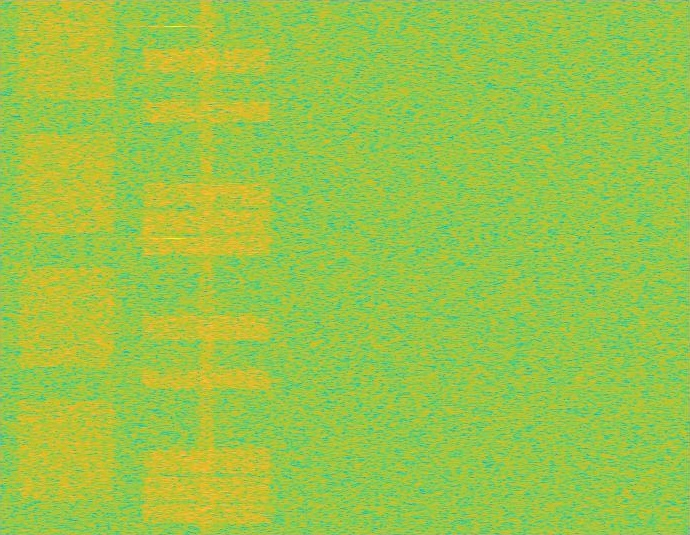5G: (15, 0, 118, 534)
DSSS: (197, 0, 216, 534)
LTE: (138, 0, 276, 534)
Radar: (168, 0, 182, 534)
